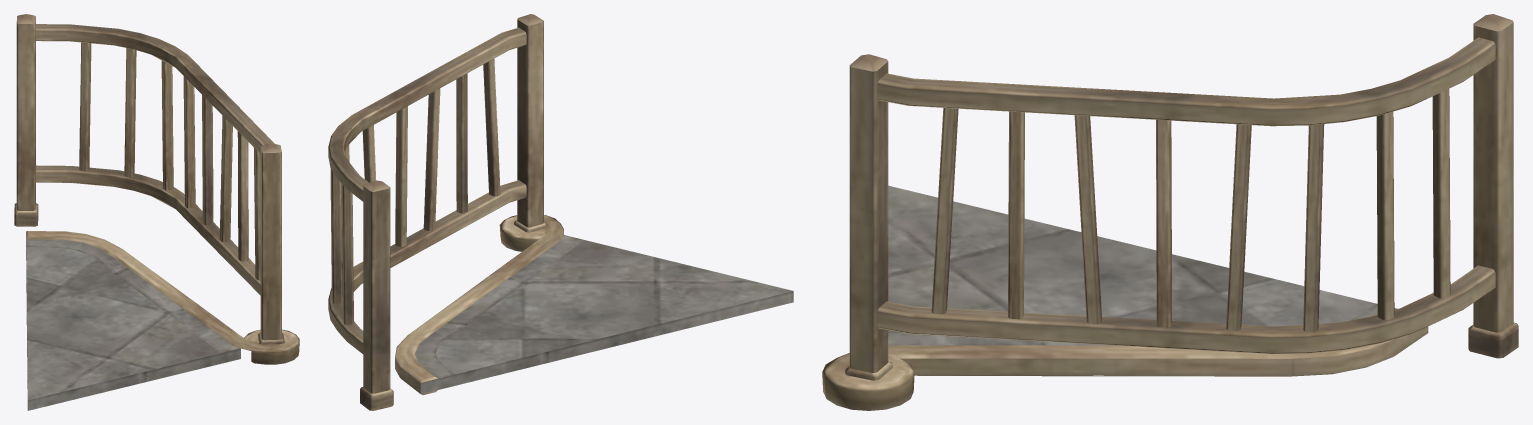
File: stairs.triangle.spiral.landing.stone.glb
3 views of the same model, side by side, from view 1: azimuth 30°, elevation 25°; view 2: azimuth 150°, elevation 25°; view 3: azimuth 270°, elevation 25° (orthographic). The views are drawn at different scales.
Parts seen in each view (by area): view 1: stairs.spiral.landing_LOD0; view 2: stairs.spiral.landing_LOD0; view 3: stairs.spiral.landing_LOD0.
Boxes of the visible parts, <box> form: stairs.spiral.landing_LOD0: <box>14,14,299,410</box>; stairs.spiral.landing_LOD0: <box>328,14,793,410</box>; stairs.spiral.landing_LOD0: <box>822,14,1518,410</box>.
Bounding box in the file's own units: 1.76 × 1.24 × 2.3.
Materials: 1 (1 with a texture image).
